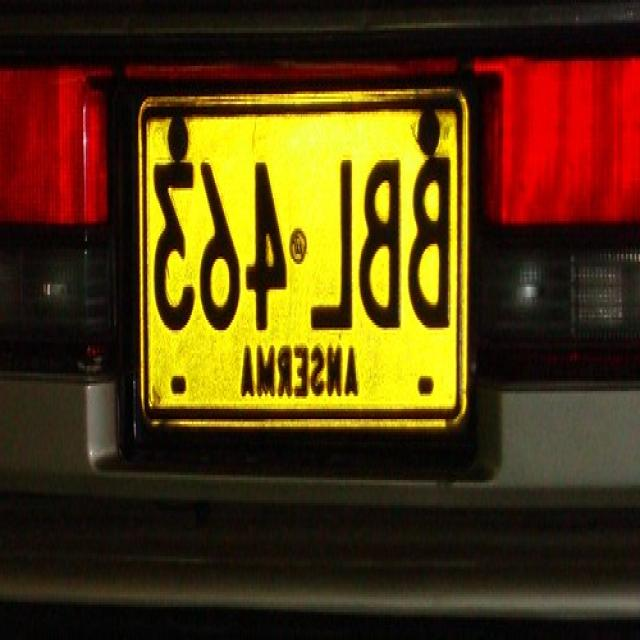placas: (146, 145, 458, 336)
